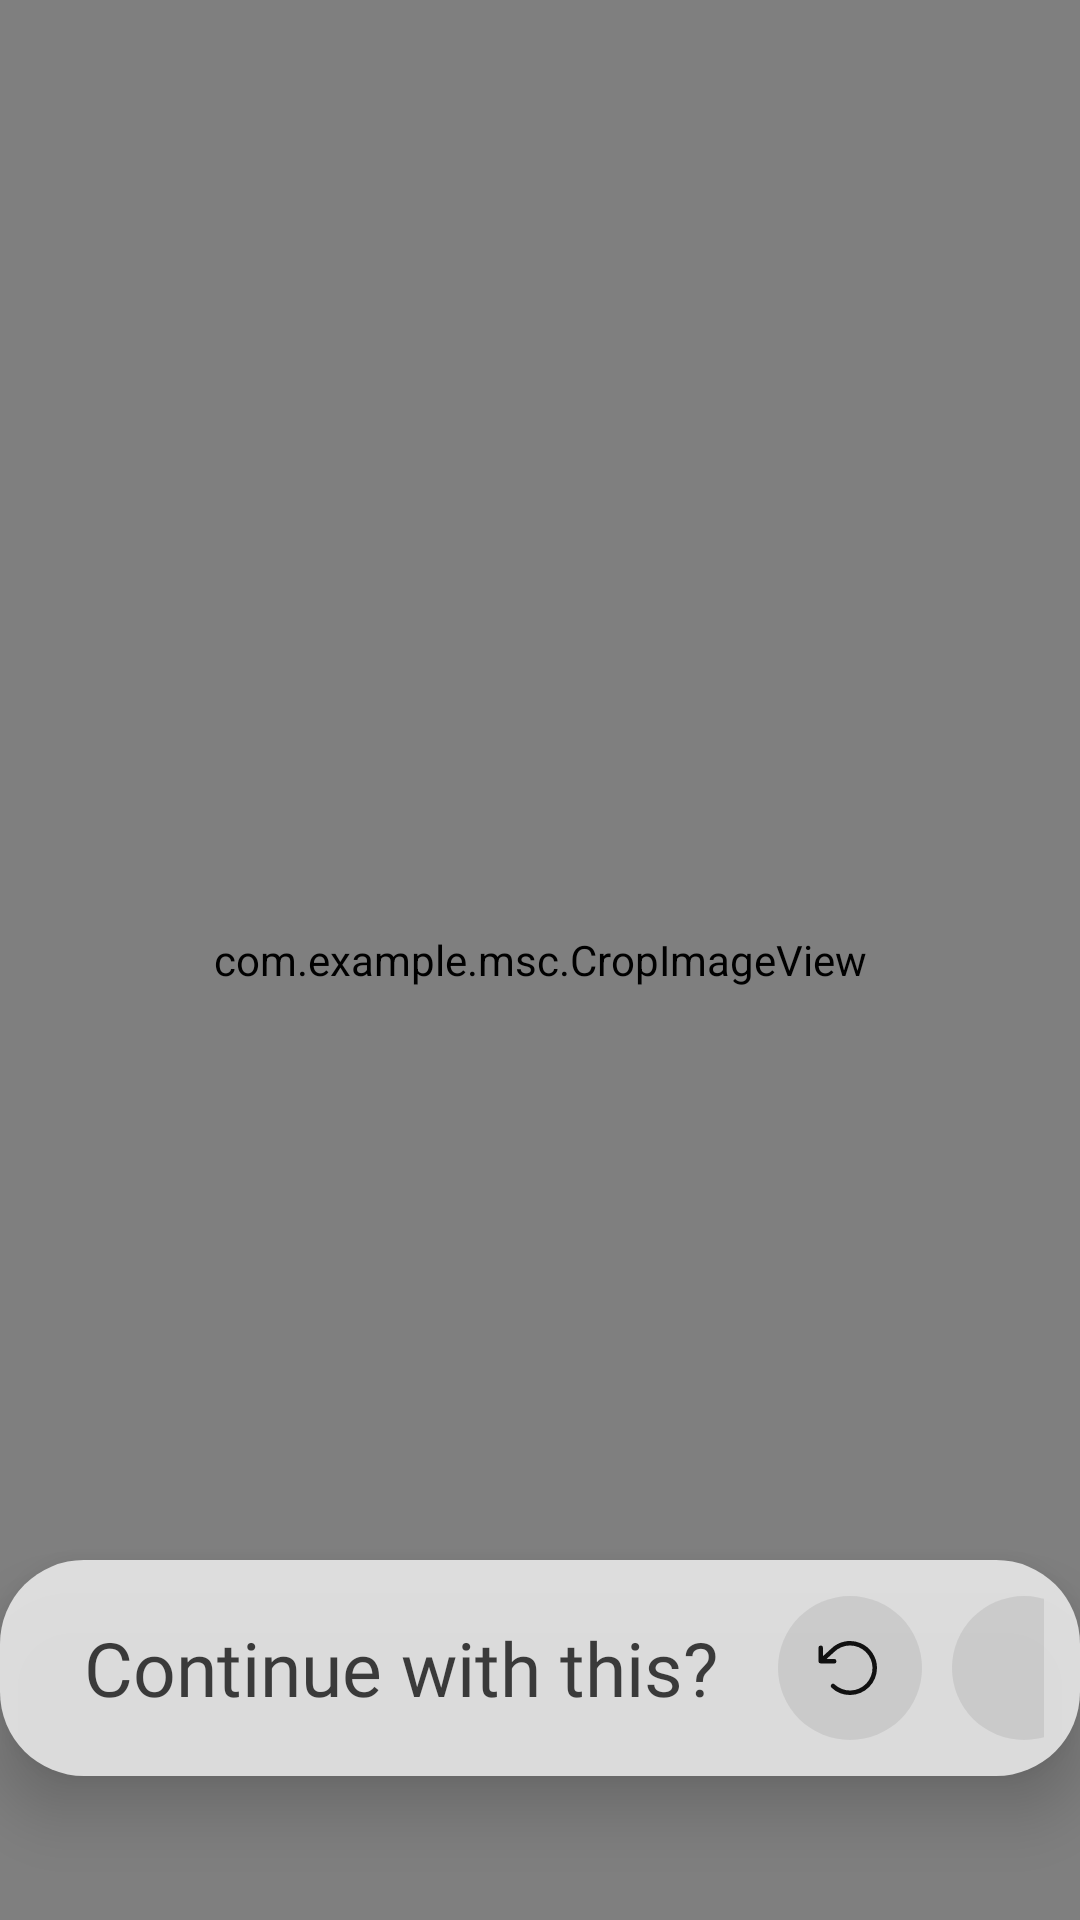

Icons on this 1080×1920 Android screen, each with the point to tap as (x,y):
Retake: (850,1668)
